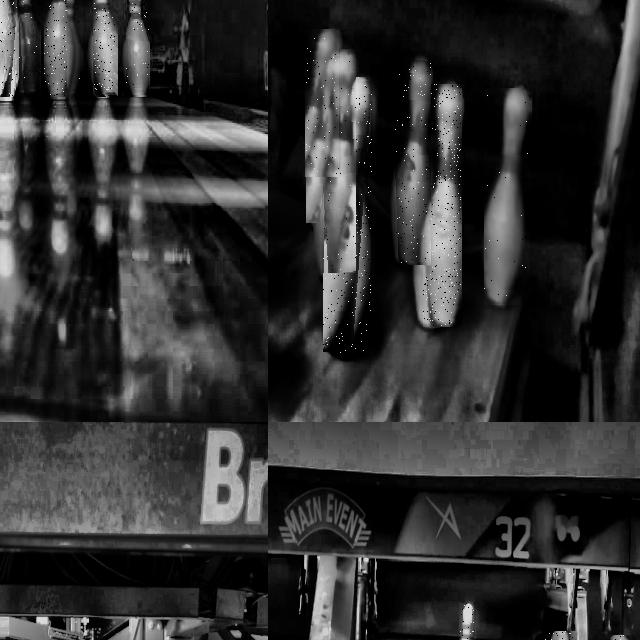bowling-pins: (324, 78, 372, 353), (485, 89, 529, 304), (424, 84, 461, 327), (322, 49, 356, 273), (395, 61, 431, 265), (306, 29, 337, 177), (44, 0, 75, 96), (93, 0, 115, 94), (127, 0, 149, 94), (23, 0, 38, 95), (68, 0, 82, 96), (464, 604, 474, 640)
